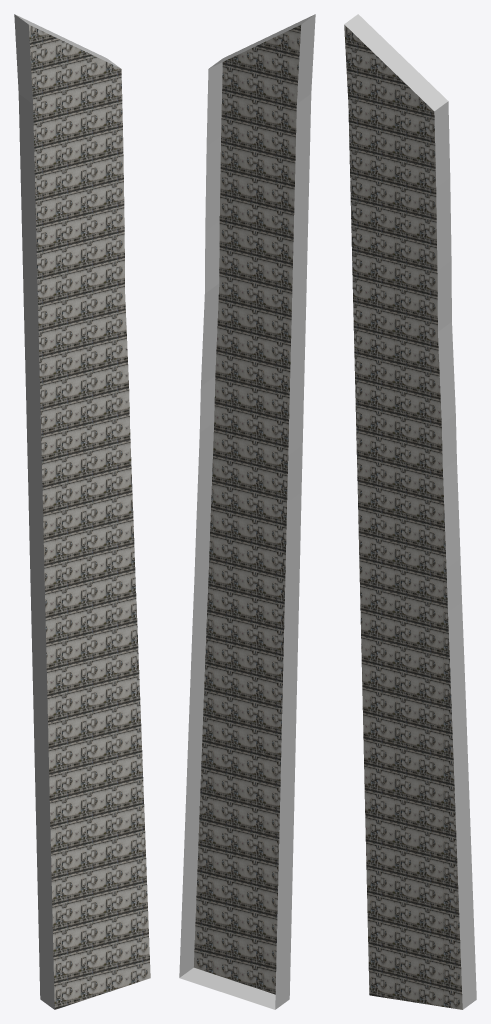
File: geospecific_410.obj
3 renders of one model, left to right at view 1: azimuth 30°, elevation 25°; view 2: azimuth 150°, elevation 25°; view 3: azimuth 330°, elevation 25°, orthographic. The views are drawn at different scales.
Parts seen in each view (by area): view 1: Building; view 2: Building; view 3: Building.
Boxes of the visible parts, x1=… form: Building: x1=14, y1=14, x2=150, y2=1009; Building: x1=179, y1=14, x2=315, y2=1009; Building: x1=344, y1=14, x2=476, y2=1009.
Size of the model in its own units: 14.58 by 113 by 3.
